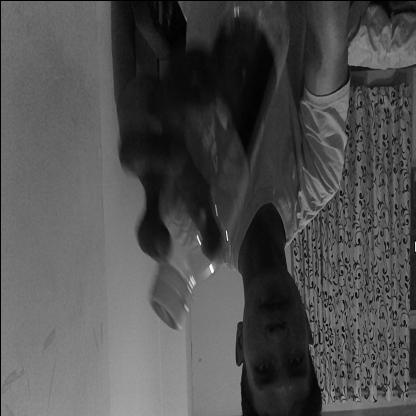plastic_bottles: (148, 0, 292, 338)
